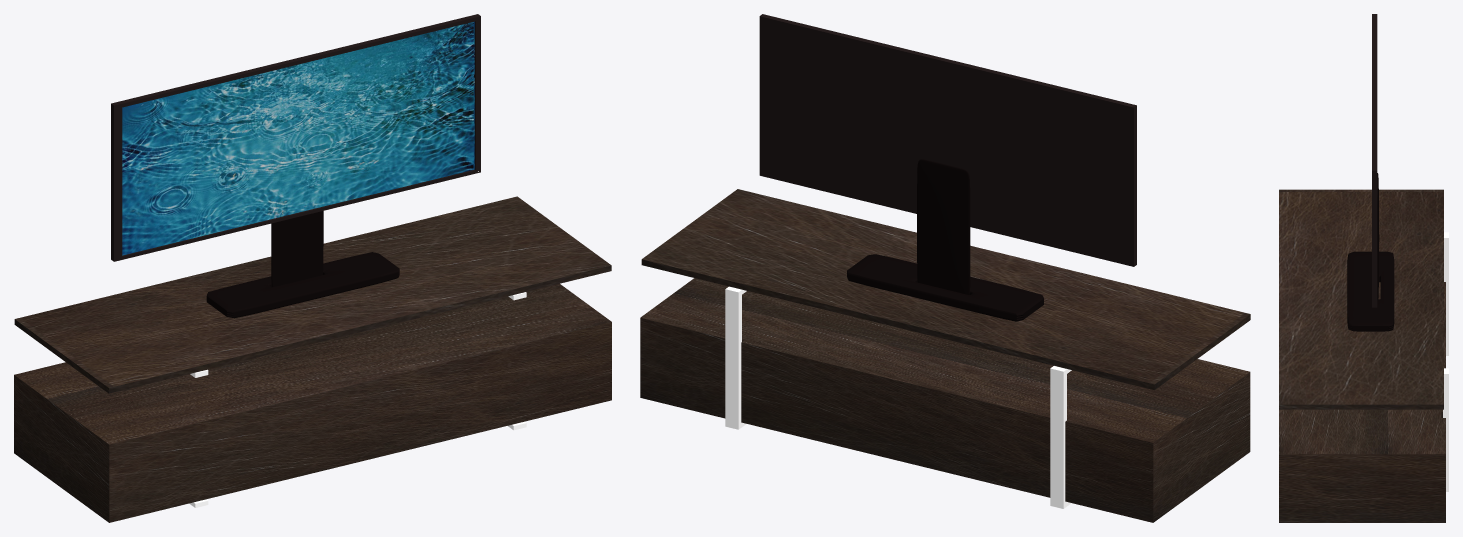
The model's file is tv-table.glb.
3 views of the same model, side by side, from view 1: azimuth 30°, elevation 25°; view 2: azimuth 150°, elevation 25°; view 3: azimuth 270°, elevation 25° (orthographic). The views are drawn at different scales.
Visible parts, largest first — view 1: Object_18, Object_6, Object_12, Object_5, Object_10, Object_8; view 2: Object_18, Object_5, Object_12, Object_8, Object_10, Object_16, Object_14; view 3: Object_12, Object_18, Object_10, Object_5, Object_16, Object_14, Object_8.
Boxes of the visible parts, x1,y1,x2,y2 form: Object_18: (14, 283, 611, 522); Object_6: (122, 21, 474, 255); Object_12: (14, 196, 611, 393); Object_5: (111, 14, 480, 261); Object_10: (206, 252, 399, 318); Object_8: (271, 211, 323, 286); Object_18: (640, 278, 1250, 522); Object_5: (759, 14, 1136, 266); Object_12: (641, 189, 1250, 390); Object_8: (917, 159, 970, 294); Object_10: (847, 254, 1043, 321); Object_16: (725, 286, 746, 429); Object_14: (1050, 366, 1071, 508); Object_12: (1279, 189, 1443, 409); Object_18: (1279, 282, 1445, 522); Object_10: (1347, 251, 1394, 331); Object_5: (1372, 14, 1377, 307); Object_16: (1443, 368, 1448, 491); Object_14: (1444, 232, 1448, 355); Object_8: (1377, 173, 1379, 299).
Bounding box in the file's own units: 110 × 77.19 × 36.65.
Materials: 6 (3 with a texture image).
